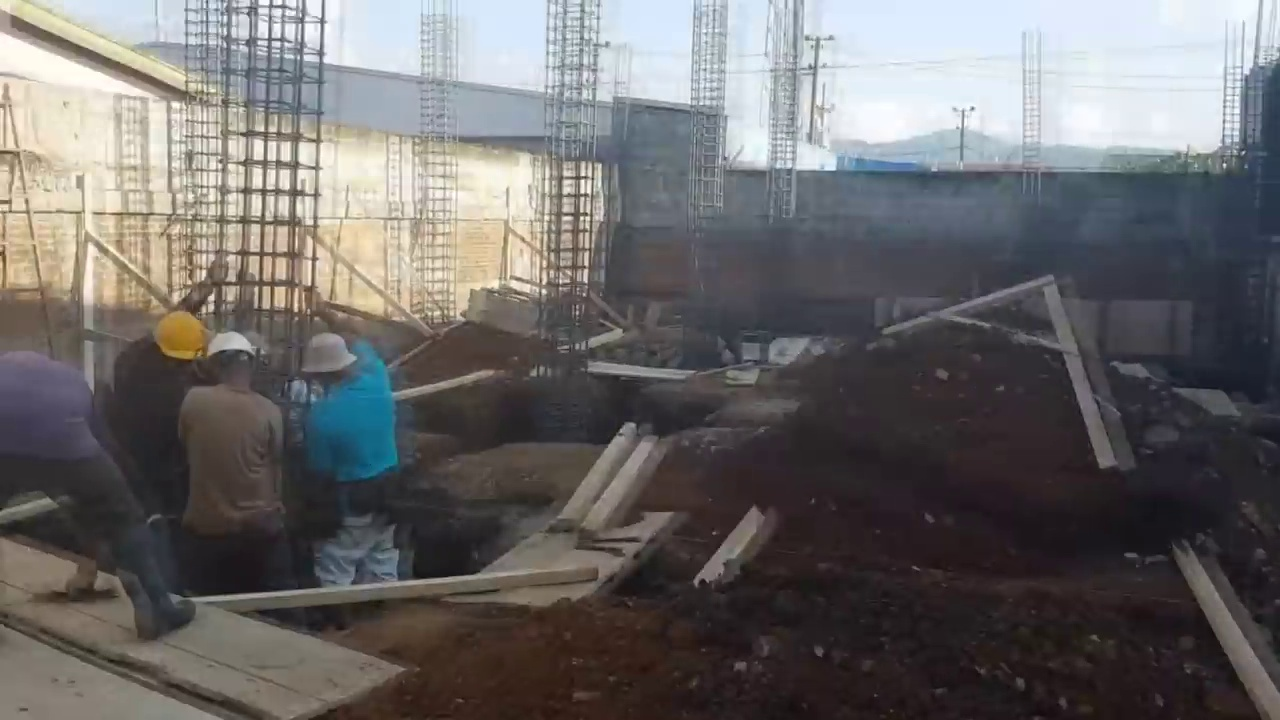helmet: (153, 311, 200, 359), (207, 330, 255, 358)
helmet-off: (300, 334, 359, 385)
helmet-on: (206, 330, 256, 391), (153, 310, 202, 370)
person: (4, 349, 197, 624), (179, 318, 285, 590), (300, 331, 399, 590), (113, 310, 204, 466)
